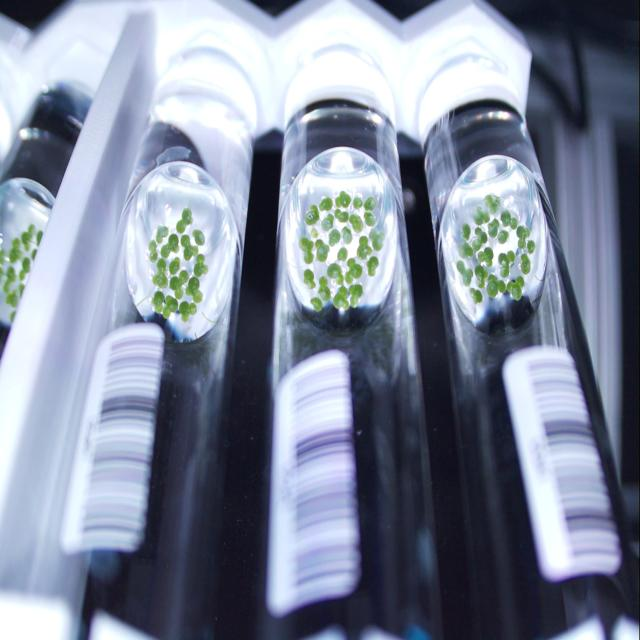Lemna-Gibba: (170, 270, 189, 299), (486, 274, 506, 299), (160, 233, 179, 259), (152, 259, 168, 289), (181, 235, 199, 260), (188, 272, 202, 304), (499, 250, 515, 278), (456, 260, 472, 287), (345, 259, 362, 284), (506, 277, 524, 300), (176, 208, 192, 233), (299, 237, 314, 263), (162, 295, 178, 319), (334, 285, 349, 310), (179, 300, 196, 322), (328, 262, 344, 285), (472, 227, 488, 250), (369, 228, 385, 250), (484, 193, 500, 215), (194, 254, 209, 277), (151, 290, 165, 314), (358, 235, 371, 260), (516, 225, 530, 248), (478, 247, 494, 267), (349, 284, 362, 308), (315, 240, 329, 262), (501, 210, 518, 228), (349, 213, 364, 233), (364, 200, 375, 227), (474, 207, 490, 225), (475, 265, 488, 287), (305, 205, 319, 225), (319, 277, 330, 302), (459, 242, 474, 259), (155, 225, 169, 243), (335, 192, 351, 207), (304, 269, 316, 289), (519, 254, 531, 274), (191, 228, 205, 245), (321, 213, 334, 231), (366, 257, 379, 275), (488, 218, 499, 238), (334, 208, 349, 222), (329, 228, 340, 247), (149, 240, 158, 262), (169, 257, 180, 275), (310, 297, 322, 312), (470, 289, 482, 304), (341, 227, 352, 243), (461, 223, 471, 240), (319, 197, 332, 210), (498, 228, 509, 243), (364, 197, 376, 210), (338, 247, 348, 259), (352, 197, 362, 208), (310, 227, 319, 238), (528, 240, 535, 254), (530, 240, 534, 250)
